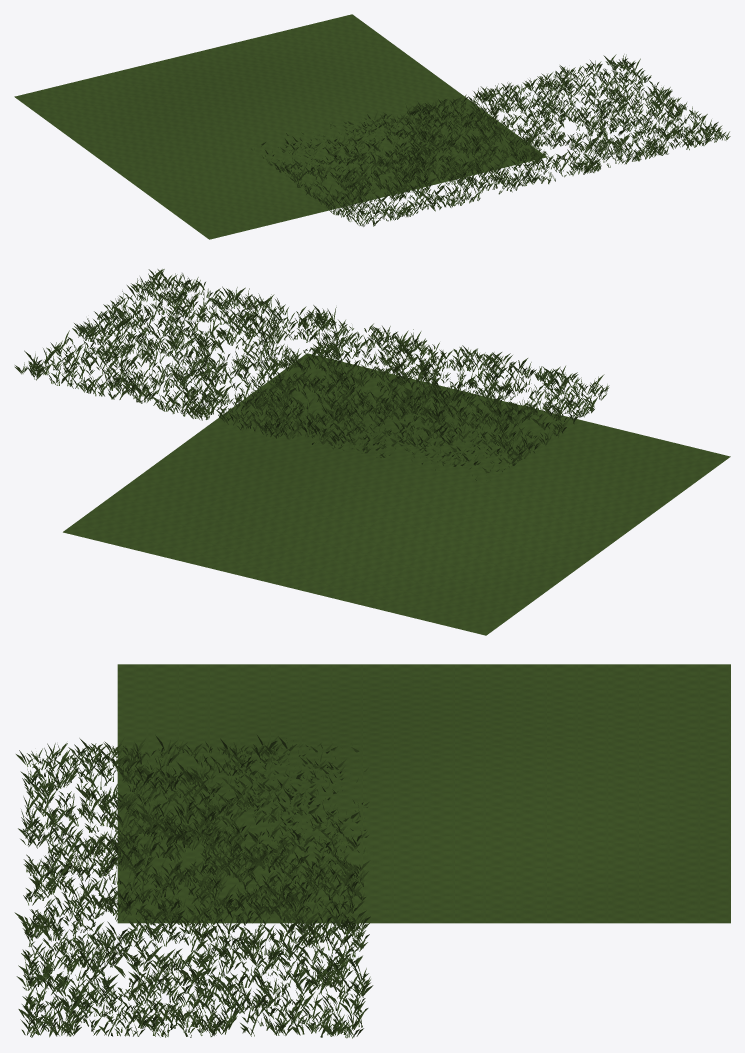
The model's file is plains-v1.glb.
The picture shows the model from 3 angles, top to bottom: view 1: azimuth 30°, elevation 25°; view 2: azimuth 150°, elevation 25°; view 3: azimuth 270°, elevation 25°; orthographic projection. The views are drawn at different scales.
Parts seen in each view (by area): view 1: Distant terrain rise, Grass blades; view 2: Distant terrain rise, Grass blades; view 3: Distant terrain rise, Grass blades.
Boxes of the visible parts, x1,y1,x2,y2 form: Distant terrain rise: (14, 14, 547, 239); Grass blades: (251, 54, 730, 226); Distant terrain rise: (63, 353, 730, 635); Grass blades: (14, 269, 609, 480); Distant terrain rise: (117, 664, 730, 923); Grass blades: (14, 735, 373, 1038).
Size of what is drawn, in the model's own units: 29.45 by 0.6983 by 23.39.
Materials: 1 (1 with a texture image).
